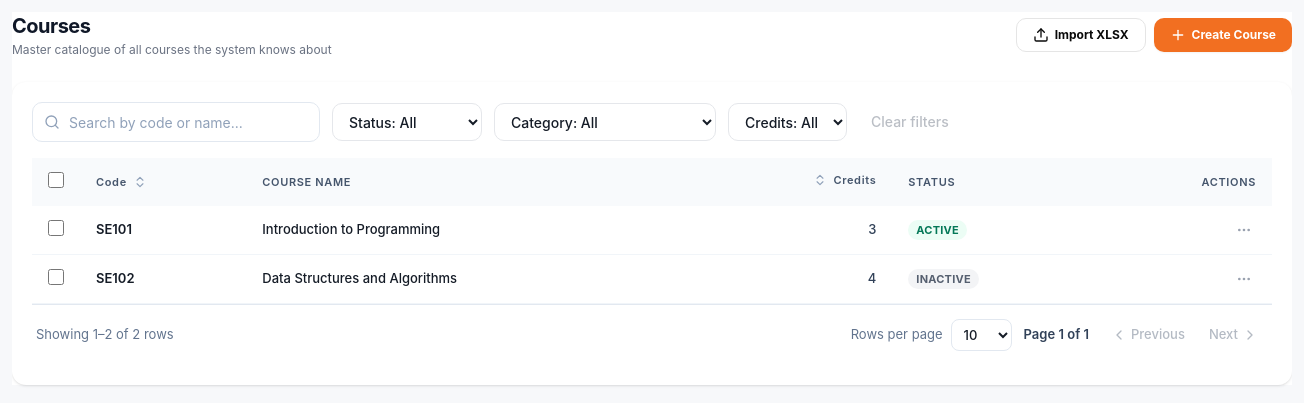
Test: Courses › clears every filter with the clear button
Expected: the text "SE101" is shown, top-left (96, 221), bottom-right (132, 237)
Select "Credits: 4" in the dropdown named "Filter by credits" at (788, 122), box top-left (728, 103), bottom-right (847, 141)
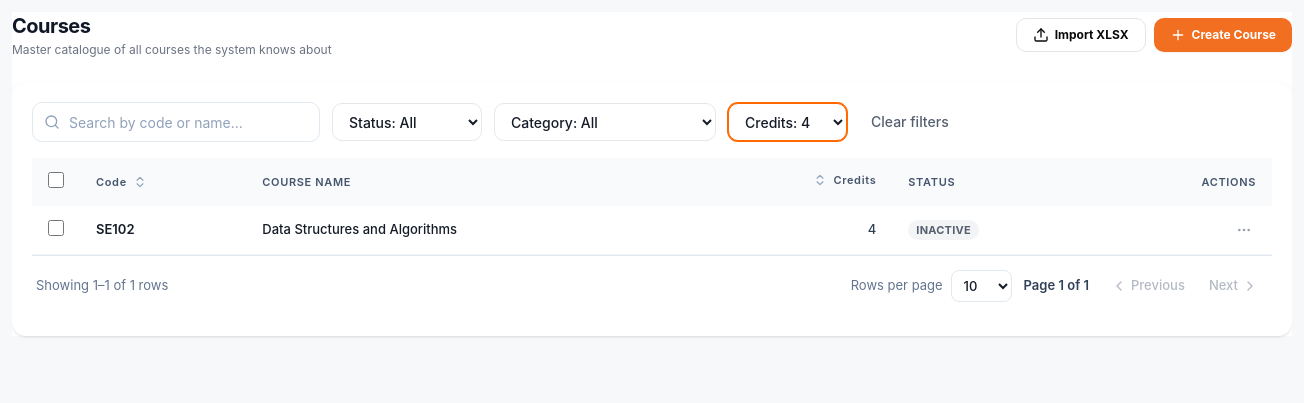
Now the text "SE101" is gone
Click the button "Clear filters".
click(910, 122)  # box top-left (859, 103), bottom-right (961, 141)
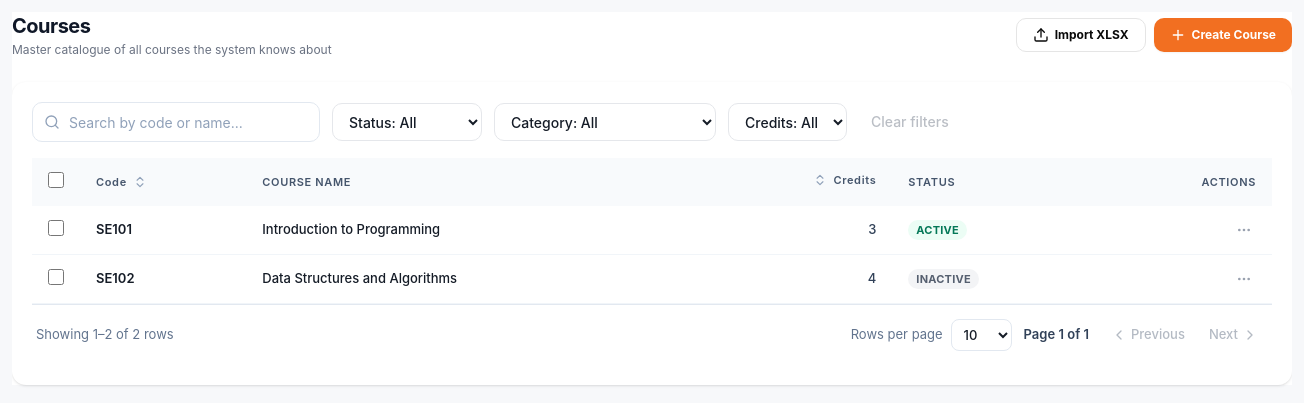
Now the text "SE101" is shown, box top-left (96, 221), bottom-right (132, 237)
